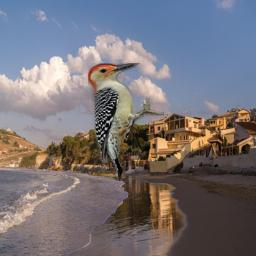Woodpecker: (88, 63, 164, 181)
